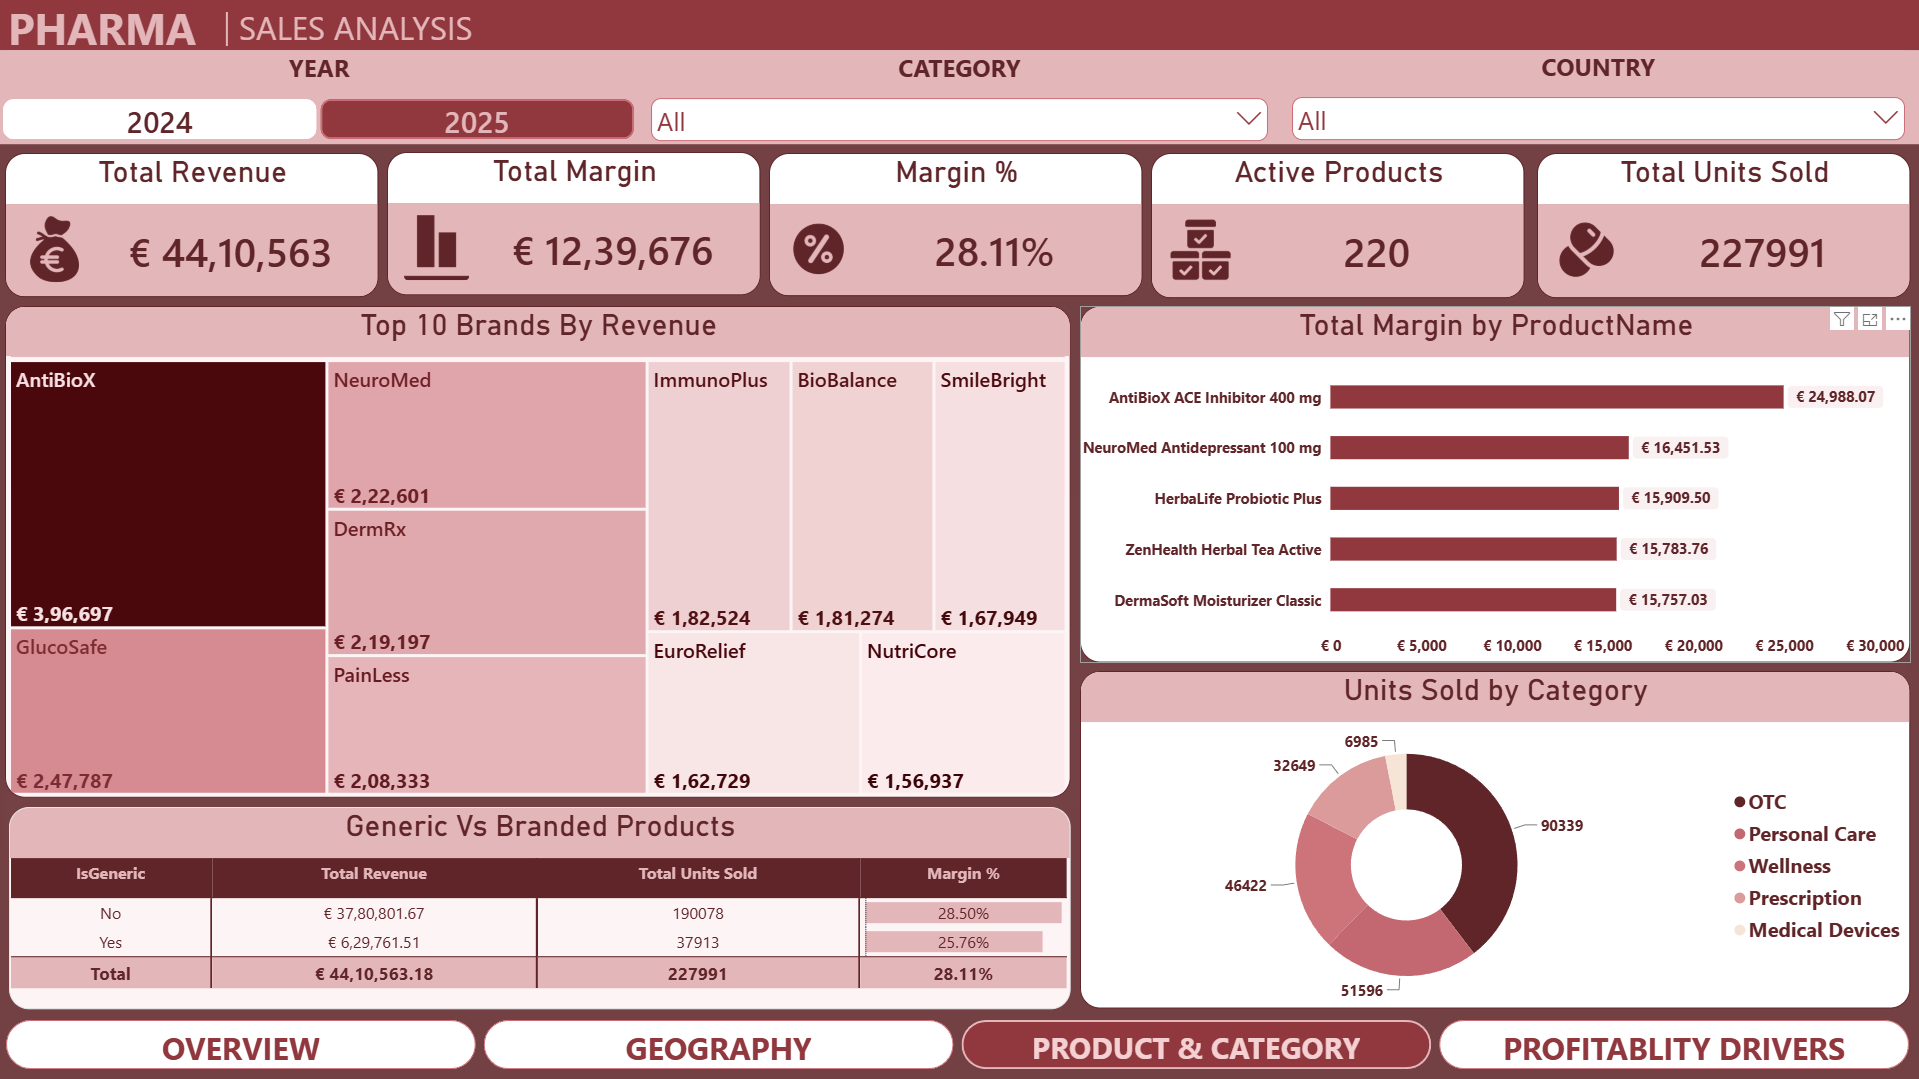

The page's visual inventory and layout, read from the dashboard file:
{"tool":"powerbi","page":{"name":"PRODUCT & CATEGORY","canvas":[1920,1080],"ordinal":2},"visuals":[{"type":"shape","box":[0,0,1920,145],"z":0},{"type":"shape","box":[0,0,1920,51.2],"z":1000},{"type":"textbox","box":[241.1,6.3,276.4,56.8],"z":2000},{"type":"shape","box":[221.1,13.2,15.8,34],"z":3000},{"type":"cardVisual","title":"Active Products","fields":{"Data":["Measures_Table.Active Products"]},"box":[1151.3,153.5,373.5,145.5],"z":6000},{"type":"slicer","title":"CATEGORY","fields":{"Values":["T_DimProduct.Category"]},"box":[641.5,51.6,635.8,92.8],"z":7000},{"type":"treemap","title":"Top 10 Brands By Revenue","fields":{"Group":["T_DimProduct.Brand"],"Values":["Measures_Table.Total Revenue"]},"box":[6.9,307,1064.2,491.5],"z":8000},{"type":"tableEx","title":"Generic Vs Branded Products","fields":{"Values":["T_DimProduct.IsGeneric","Measures_Table.Total Revenue","Measures_Table.Total Units Sold","Measures_Table.Margin %"]},"box":[11.5,806.5,1059.7,201.6],"z":9000},{"type":"donutChart","title":"Units Sold by Category","fields":{"Category":["T_DimProduct.Category"],"Y":["Measures_Table.Total Units Sold"]},"box":[1080.1,671.2,828.8,337.3],"z":10000},{"type":"clusteredBarChart","fields":{"Category":["T_DimProduct.ProductName"],"Y":["Measures_Table.Total Margin"]},"box":[1080.3,307,829.4,356.3],"z":11000},{"type":"cardVisual","title":"Margin %","fields":{"Data":["Measures_Table.Margin %"]},"box":[770,153.3,373,143.3],"z":12000},{"type":"cardVisual","title":"Total Revenue","fields":{"Data":["Measures_Table.Total Revenue"]},"box":[6.7,153.3,373,144.4],"z":13000},{"type":"cardVisual","title":"Total Margin","fields":{"Data":["Measures_Table.Total Margin"]},"box":[388.2,153.2,373,143.3],"z":14000},{"type":"cardVisual","title":"Total Units Sold","fields":{"Data":["Measures_Table.Total Units Sold"]},"box":[1536.2,153.5,373.5,145.5],"z":15000},{"type":"pageNavigator","box":[7.7,1019.5,1901.3,49.6],"z":16000},{"type":"advancedSlicerVisual","title":"YEAR","fields":{"Values":["T_DimDate.Year"]},"box":[0,51.8,641.5,93.7],"z":16001},{"type":"slicer","title":"COUNTRY","fields":{"Values":["T_DimPharmacy.Country"]},"box":[1281.8,50.7,631.5,92.6],"z":16002}]}

Visuals, with their boxes in screenshot pixels (x1, y1, x2, y2), scaled from the page's 1920x1080 canvas onto the 1919x1079 screenshot:
shape: bbox=[0, 0, 1918, 145]
shape: bbox=[0, 0, 1918, 51]
textbox: bbox=[241, 6, 517, 63]
shape: bbox=[221, 13, 237, 47]
"Active Products" cardVisual: bbox=[1151, 153, 1524, 299]
"CATEGORY" slicer: bbox=[641, 52, 1277, 144]
"Top 10 Brands By Revenue" treemap: bbox=[7, 307, 1071, 798]
"Generic Vs Branded Products" tableEx: bbox=[11, 806, 1071, 1007]
"Units Sold by Category" donutChart: bbox=[1080, 671, 1908, 1008]
clusteredBarChart - T_DimProduct.ProductName x Measures_Table.Total Margin: bbox=[1080, 307, 1909, 663]
"Margin %" cardVisual: bbox=[770, 153, 1142, 296]
"Total Revenue" cardVisual: bbox=[7, 153, 380, 297]
"Total Margin" cardVisual: bbox=[388, 153, 761, 296]
"Total Units Sold" cardVisual: bbox=[1535, 153, 1909, 299]
pageNavigator: bbox=[8, 1019, 1908, 1068]
"YEAR" advancedSlicerVisual: bbox=[0, 52, 641, 145]
"COUNTRY" slicer: bbox=[1281, 51, 1912, 143]
